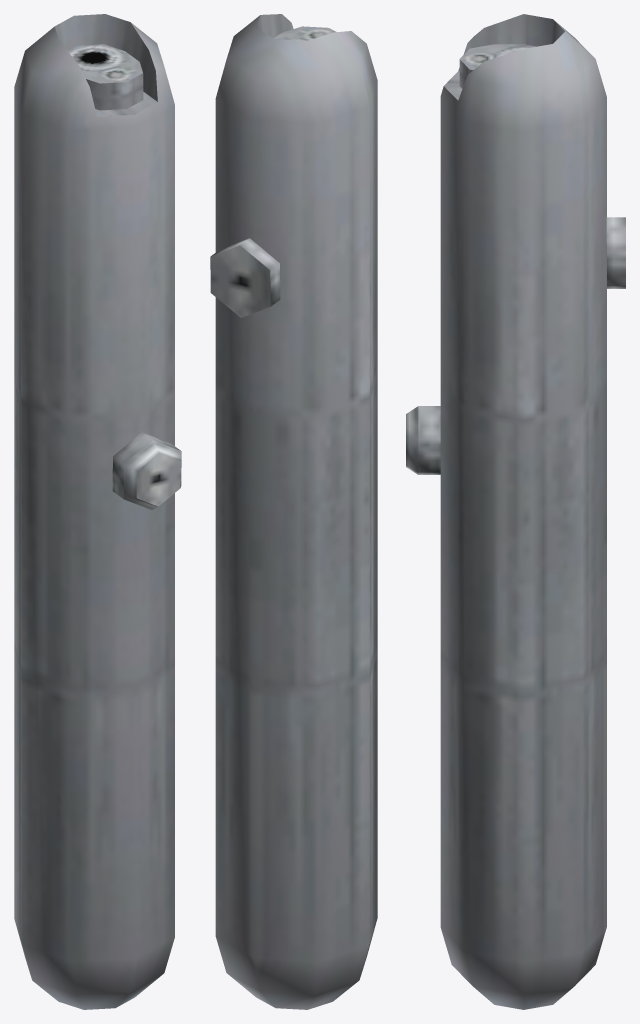
Rendered from wp_mle_2h_sword_lightsaber_sleeksilver_l0.fbx.
The picture shows the model from 3 angles, left to right: view 1: azimuth 30°, elevation 25°; view 2: azimuth 150°, elevation 25°; view 3: azimuth 270°, elevation 25°; orthographic projection.
Visible parts, largest first — view 1: mesh_node; view 2: mesh_node; view 3: mesh_node.
Part boxes in pixels (bbox=[...]): mesh_node: bbox=[14, 14, 181, 1009]; mesh_node: bbox=[210, 14, 377, 1009]; mesh_node: bbox=[406, 14, 625, 1009].
Size of the model in its own units: 0.0355 by 0.2262 by 0.0469.
